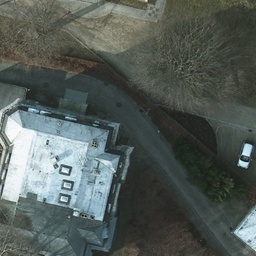car: (239, 140, 255, 170)
